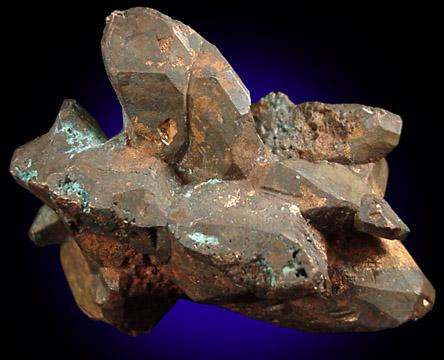copper: (10, 7, 436, 334)
